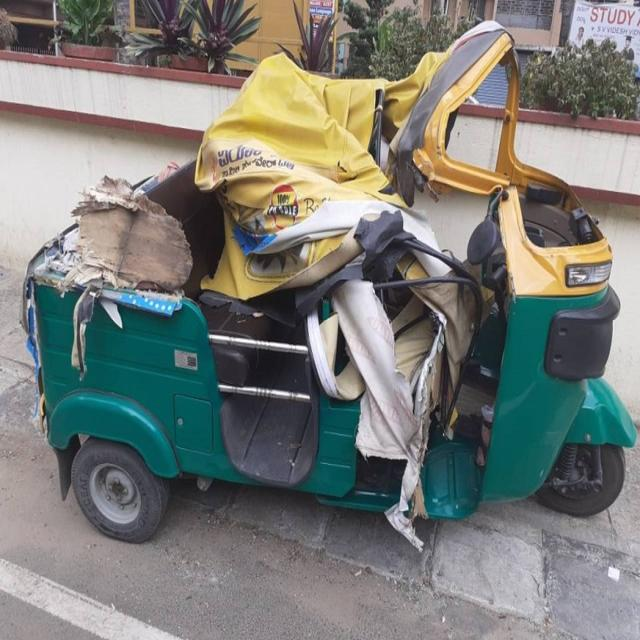accident: (24, 22, 635, 544)
